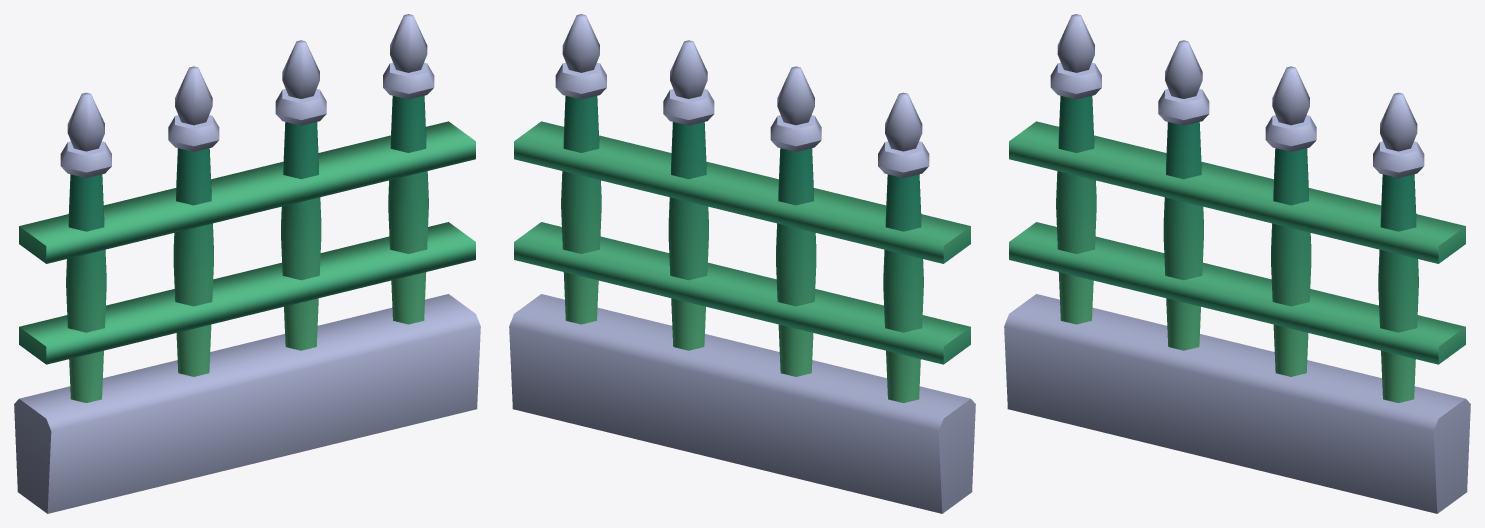
The model's file is iron-fence-border.038_lev2.glb.
The picture shows the model from 3 angles, left to right: view 1: azimuth 30°, elevation 25°; view 2: azimuth 150°, elevation 25°; view 3: azimuth 330°, elevation 25°; orthographic projection.
Visible parts, largest first — view 1: iron-fence-border.038_lev2; view 2: iron-fence-border.038_lev2; view 3: iron-fence-border.038_lev2.
Boxes of the visible parts, x1,y1,x2,y2 form: iron-fence-border.038_lev2: [14, 14, 480, 513]; iron-fence-border.038_lev2: [509, 14, 975, 513]; iron-fence-border.038_lev2: [1004, 14, 1470, 513].
Bounding box in the file's own units: 8 × 7.03 × 1.2.
Materials: 1 (1 with a texture image).
